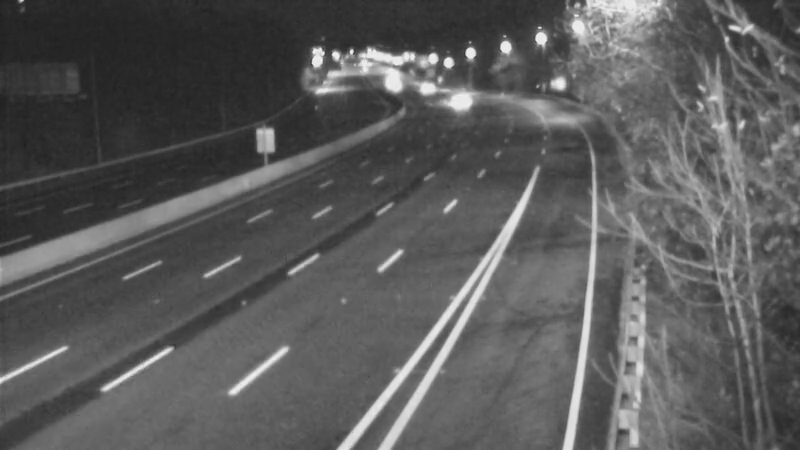vehicle: (366, 59, 416, 109), (398, 62, 448, 112), (425, 75, 475, 125)
